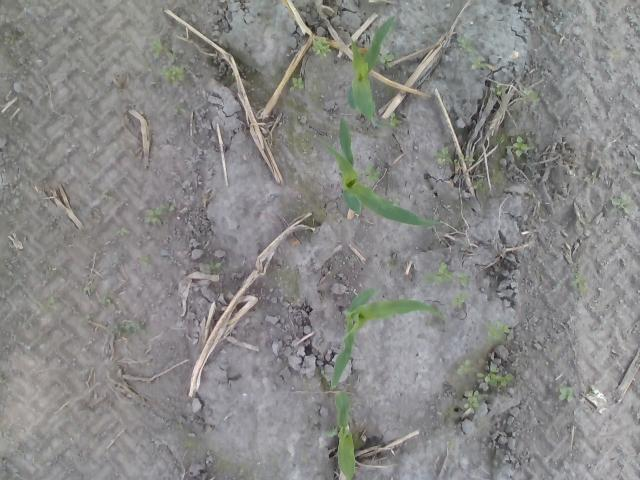Maize: (320, 112, 442, 228), (328, 289, 442, 388), (346, 15, 399, 128), (327, 388, 357, 478)
Weeds: (454, 358, 514, 408), (147, 34, 186, 82), (424, 262, 469, 286), (456, 36, 486, 70), (142, 201, 175, 224), (113, 318, 146, 336), (486, 317, 511, 340), (510, 134, 530, 160), (361, 164, 385, 184), (432, 146, 456, 166), (608, 194, 631, 214), (309, 36, 332, 56), (38, 294, 56, 313), (569, 271, 587, 290), (522, 87, 540, 106), (76, 312, 95, 329), (290, 72, 306, 92), (557, 386, 577, 402), (136, 254, 152, 271), (473, 177, 488, 194), (379, 53, 396, 68), (0, 30, 15, 46), (206, 258, 223, 272), (488, 82, 504, 96), (629, 15, 640, 35), (390, 110, 401, 128), (78, 285, 94, 297), (455, 156, 475, 164), (98, 296, 116, 304), (609, 48, 621, 60), (115, 228, 129, 238), (452, 294, 465, 304), (175, 418, 184, 430), (46, 264, 58, 272), (183, 440, 193, 449)
